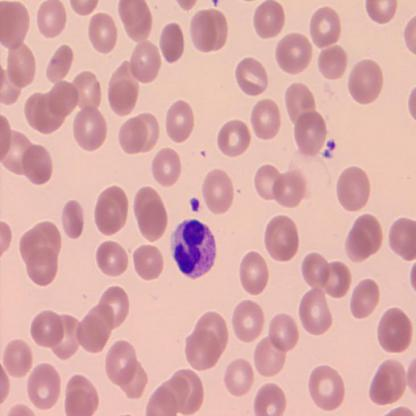Segmented neutrophil: (167, 215, 218, 282)
